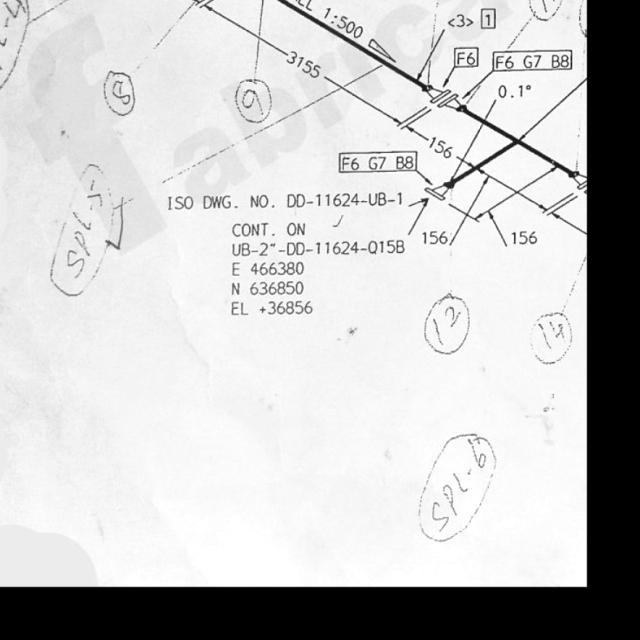Item number: (492, 46, 575, 73), (337, 148, 419, 173), (452, 43, 480, 68), (479, 5, 498, 30)
Measrement: (193, 4, 406, 131), (418, 167, 557, 251), (398, 121, 477, 171), (496, 81, 531, 104)
Pipeline: (274, 1, 416, 83), (456, 109, 573, 182)
Symbol: (424, 81, 465, 112), (421, 177, 454, 208)
Weld number: (422, 292, 472, 359), (528, 307, 575, 369), (232, 77, 274, 126), (102, 67, 137, 119), (527, 1, 564, 24)
other: (229, 220, 409, 319), (167, 187, 408, 210)
